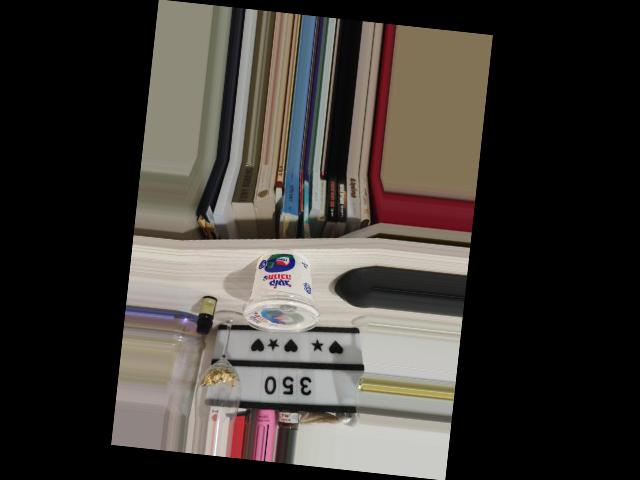cotage: (246, 245, 319, 339)
